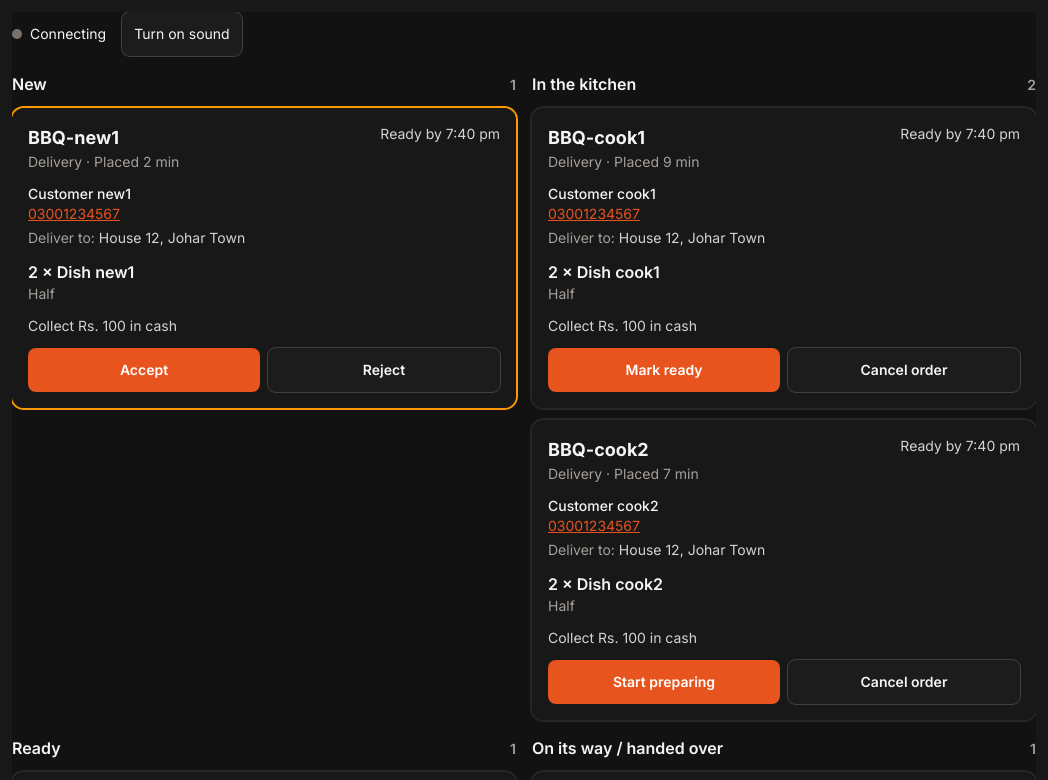
Test: the order board › moving an order › puts the order back and explains when someone else got there first
This screenshot has width=1048, height=780.
Check: the heading "BBQ-new1" is shown, box [28, 127, 119, 148]
Click the button "Accept" at (144, 370), box [28, 348, 260, 392]
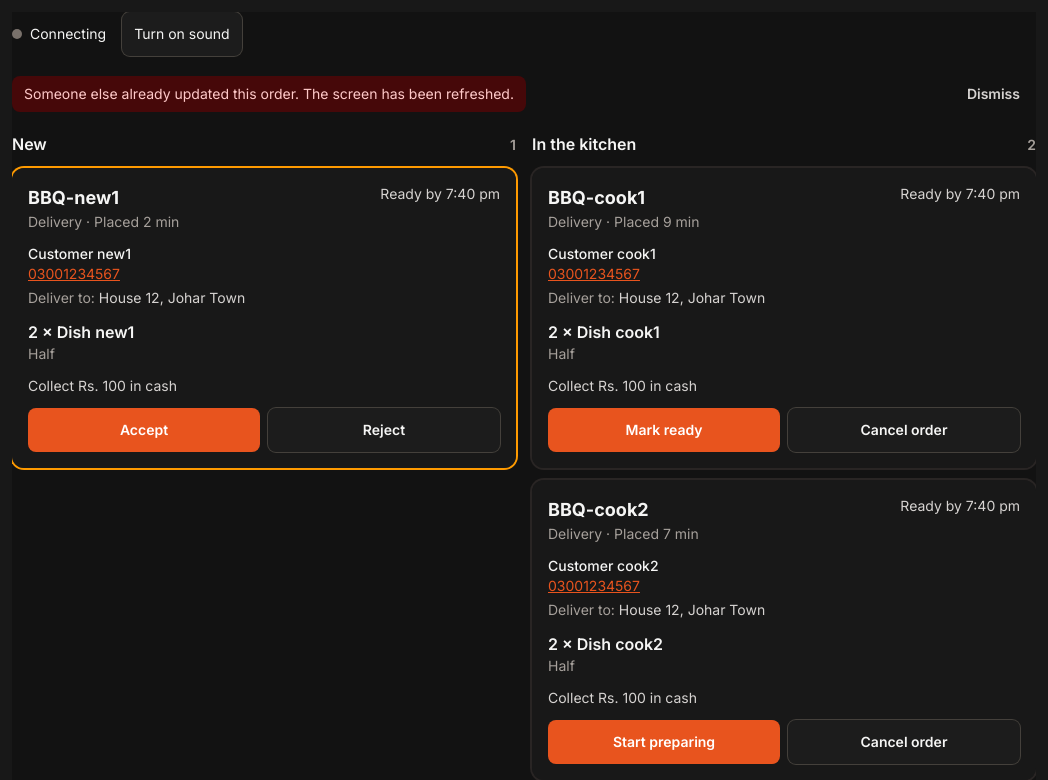
Check: the text "Someone else already updated this order. The screen has been refreshed." is shown, box [12, 76, 526, 112]
Click the button "Dismiss" at (993, 94), box [951, 72, 1036, 116]
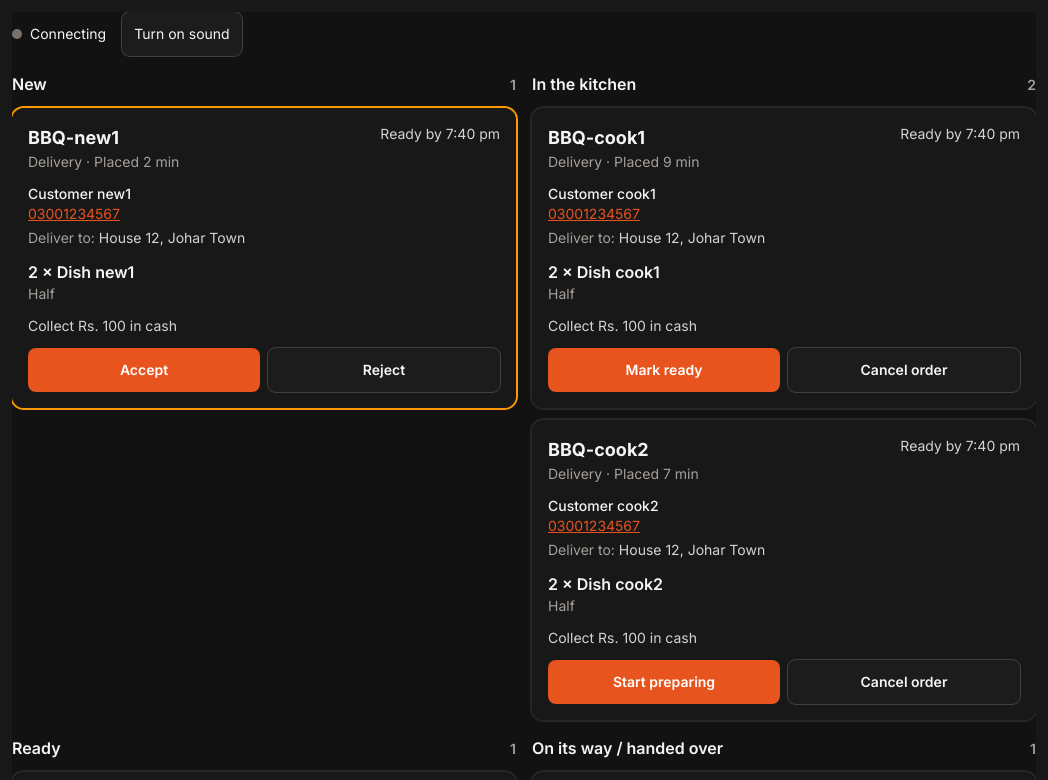
Check: the text "Someone else already updated" is gone
